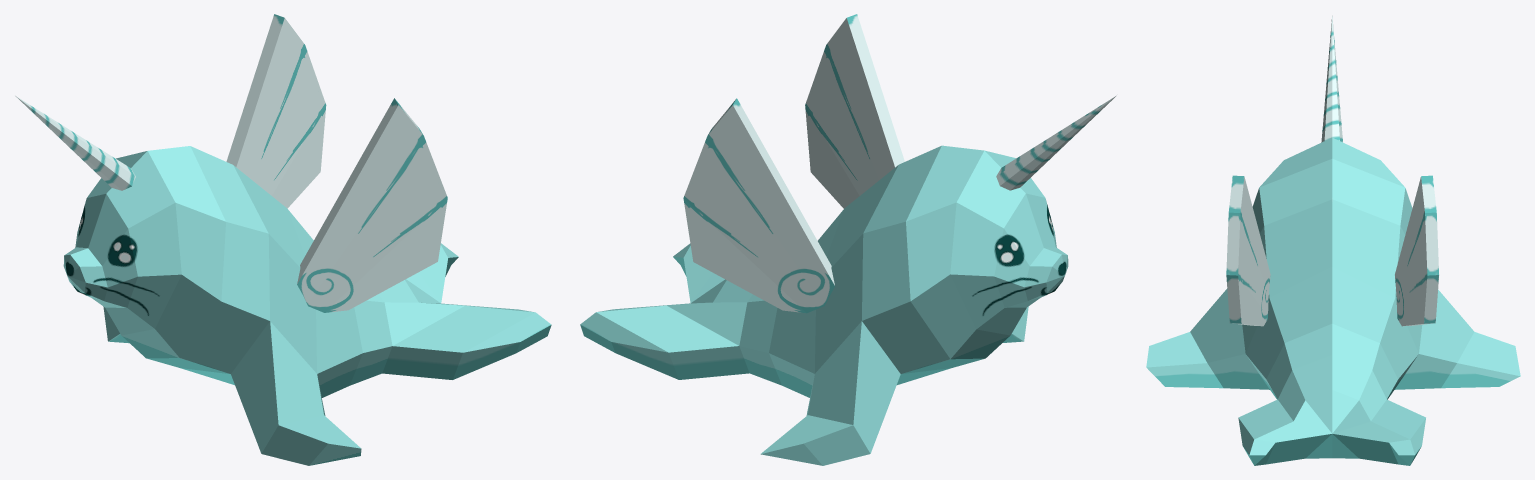
Rendered from Asset_Pawn_Ashely.fbx.
3 renders of one model, left to right at view 1: azimuth 30°, elevation 25°; view 2: azimuth 150°, elevation 25°; view 3: azimuth 270°, elevation 25°, orthographic. The views are drawn at different scales.
Parts seen in each view (by area): view 1: polySurface_Body, polySurface_Wings, polySurface_Horn; view 2: polySurface_Body, polySurface_Wings, polySurface_Horn; view 3: polySurface_Body, polySurface_Wings, polySurface_Horn.
Boxes of the visible parts, box(x1,y1,x2,y2) form: polySurface_Body: box(63, 146, 551, 465); polySurface_Wings: box(226, 14, 447, 312); polySurface_Horn: box(15, 96, 135, 190); polySurface_Body: box(580, 145, 1068, 465); polySurface_Wings: box(683, 14, 904, 313); polySurface_Horn: box(996, 95, 1116, 190); polySurface_Body: box(1146, 137, 1520, 465); polySurface_Wings: box(1226, 175, 1438, 326); polySurface_Horn: box(1321, 16, 1342, 142).
Size of the model in its own units: 4.51 by 3.05 by 3.74.
